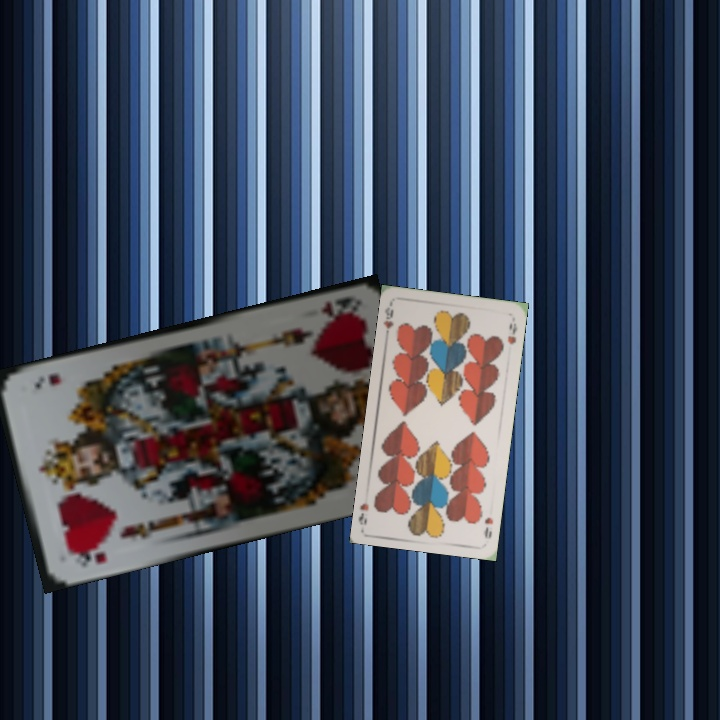H9: (380, 303, 396, 341), (480, 513, 496, 541)
HK: (65, 543, 109, 570), (317, 293, 356, 321)
